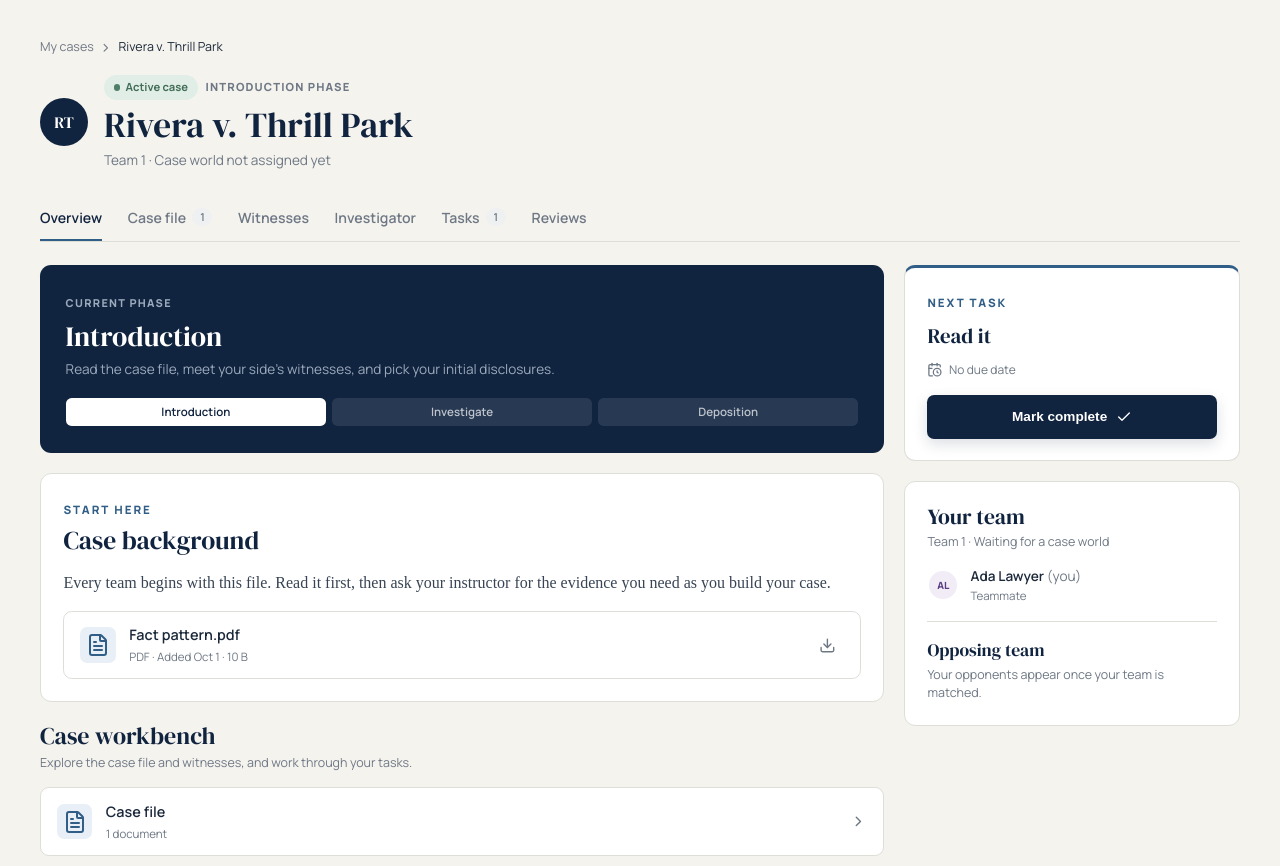
Test: StudentCasePage: review results › doesn't mark anything when every result was already read
The image size is (1280, 866).
Step 1. Click the tab "Reviews" → click(559, 218), box [532,196,587,241]
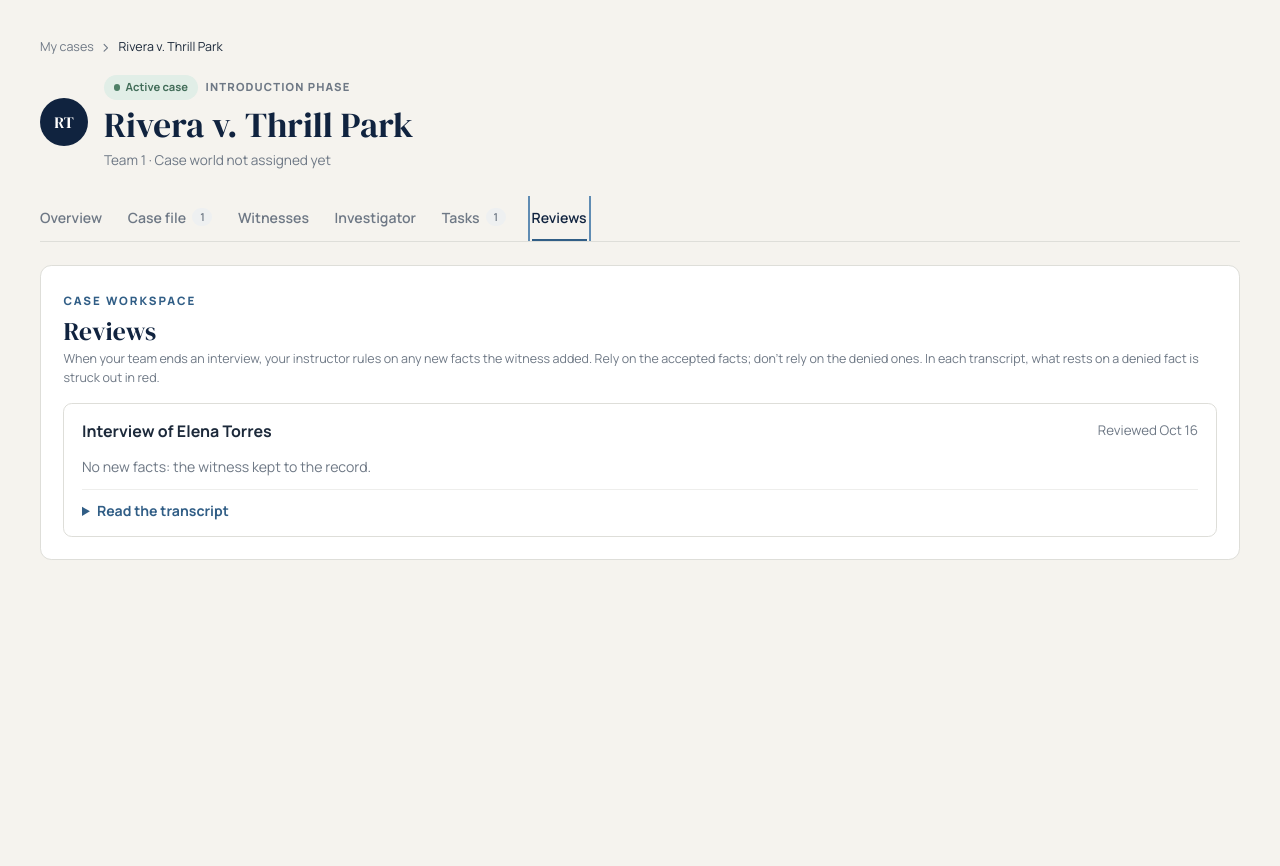
Now the text "No new facts: the witness kept to the record." is shown, box [82,457,371,476]
